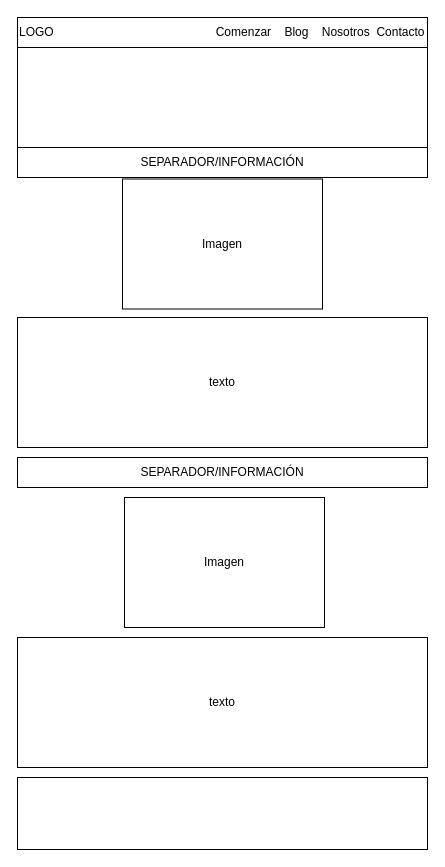
This 445x867 diagram has some shape labels left out. The shapes that lost their labels are listed below. From the top down, each one's box as (x1, y1, x2, y2) in pixels, then its label:
(16, 46, 428, 148): Portada Información
(16, 776, 428, 850): Pie de pagina
